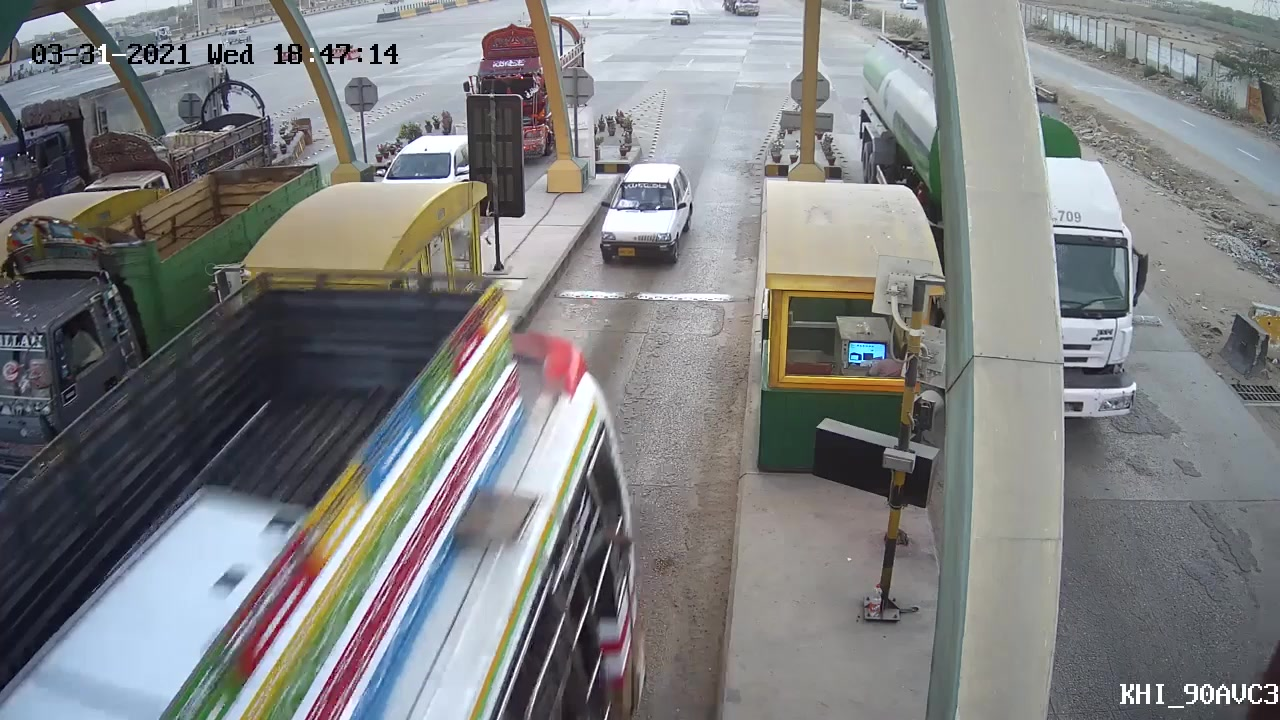F1: (590, 153, 701, 279)
